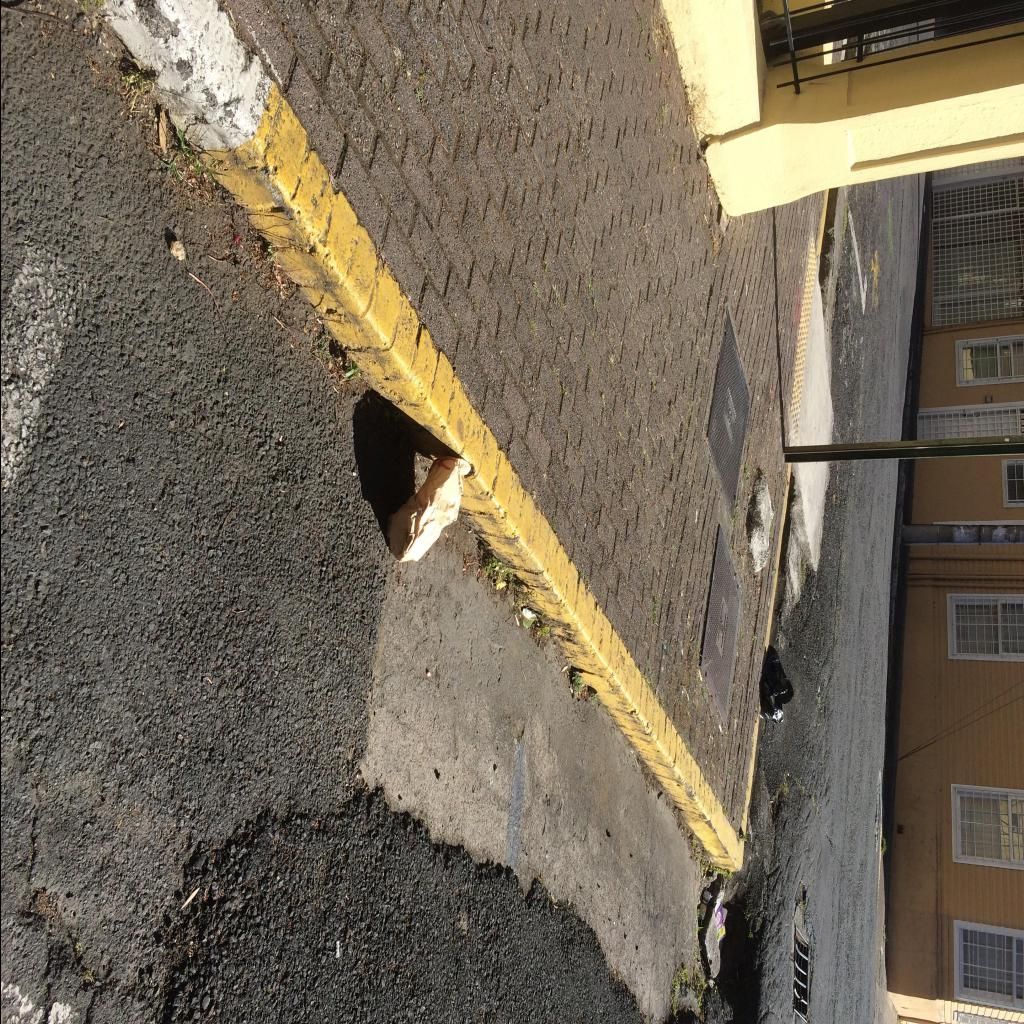Drink carton: (698, 890, 712, 920)
Garbage bag: (758, 645, 788, 724)
Other carton: (712, 902, 724, 944)
Paper bag: (386, 456, 470, 562)
